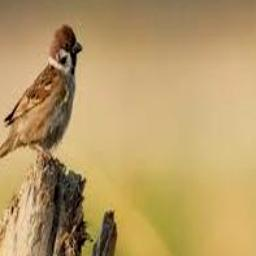Sparrow: (0, 24, 82, 181)
